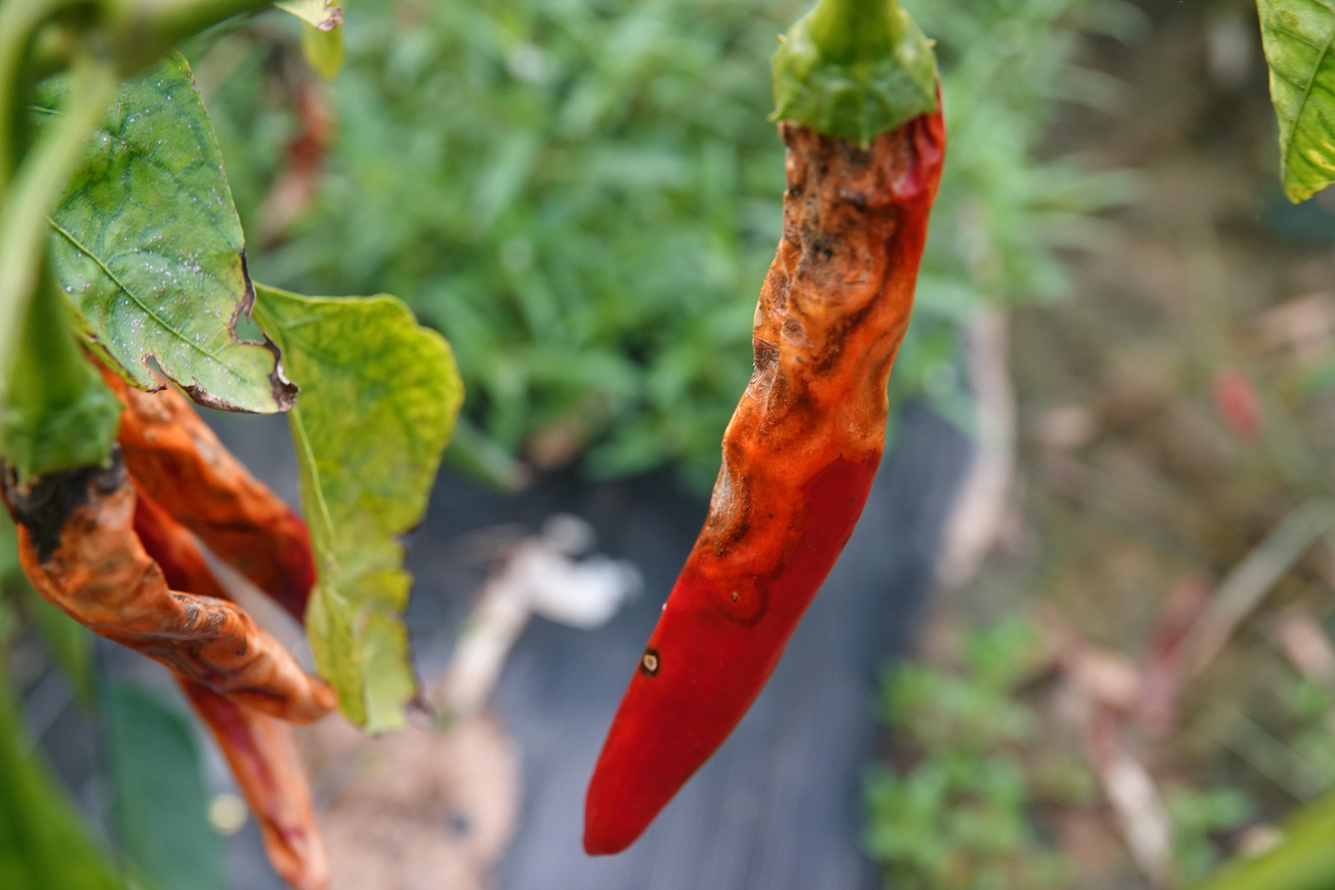Busuk Buah Antraknosa: (578, 2, 950, 858), (0, 377, 348, 737)
